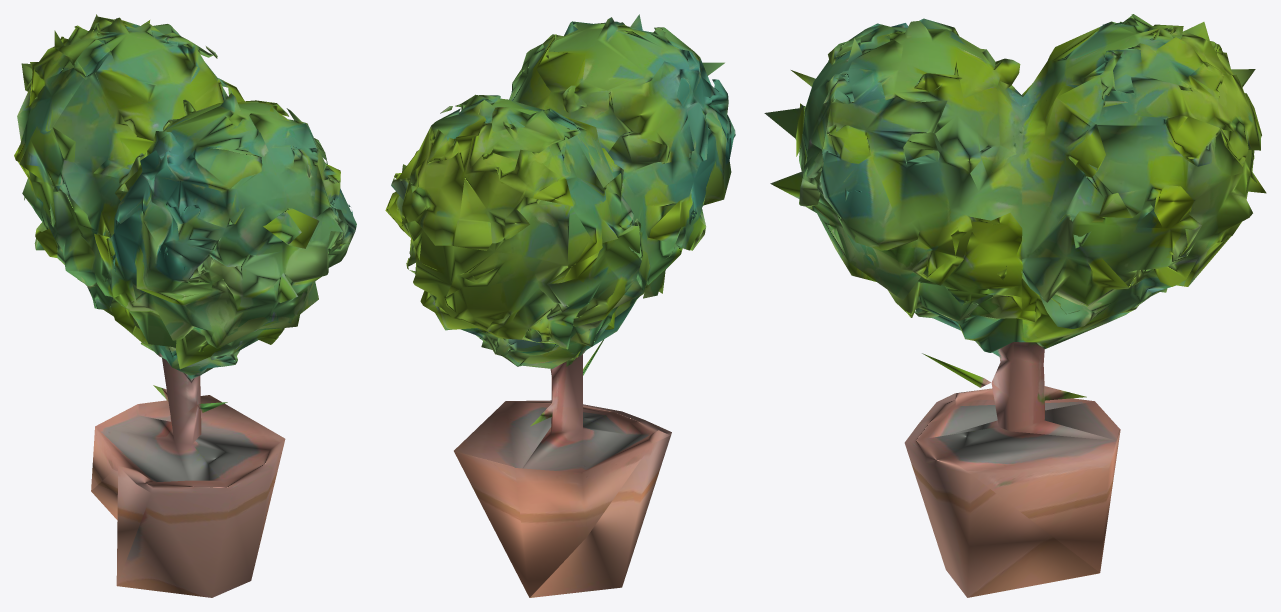
Rendered from topiary_heart.glb.
The picture shows the model from 3 angles, left to right: view 1: azimuth 30°, elevation 25°; view 2: azimuth 150°, elevation 25°; view 3: azimuth 270°, elevation 25°; orthographic projection. The views are drawn at different scales.
Parts seen in each view (by area): view 1: tripo_node_f3a42104-885f-4146-af6a-7f548cf22925; view 2: tripo_node_f3a42104-885f-4146-af6a-7f548cf22925; view 3: tripo_node_f3a42104-885f-4146-af6a-7f548cf22925.
Boxes of the visible parts, x1,y1,x2,y2 form: tripo_node_f3a42104-885f-4146-af6a-7f548cf22925: [14, 14, 356, 597]; tripo_node_f3a42104-885f-4146-af6a-7f548cf22925: [385, 14, 735, 597]; tripo_node_f3a42104-885f-4146-af6a-7f548cf22925: [764, 14, 1266, 597].
Bounding box in the file's own units: 0.4453 × 0.9809 × 0.8042.
Materials: 1 (1 with a texture image).
